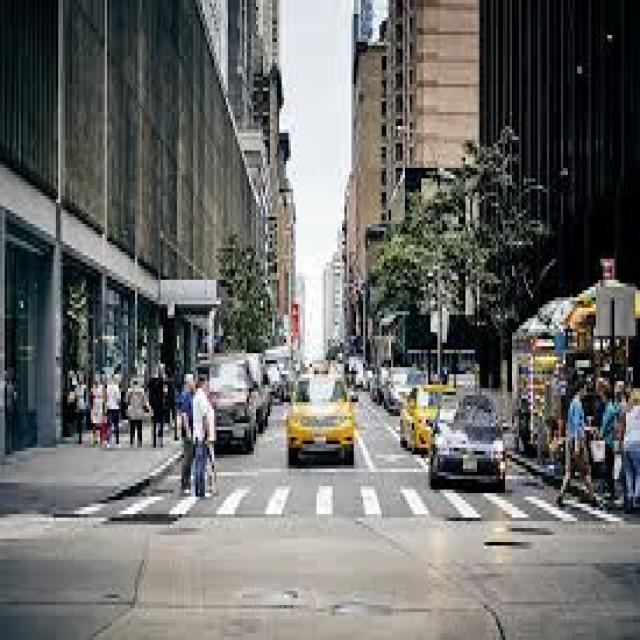Passenger Car: (431, 392, 512, 496), (286, 374, 358, 469), (219, 364, 256, 451), (400, 384, 435, 454)
Pedestrians: (556, 384, 600, 510), (193, 378, 219, 497), (179, 374, 196, 497)
